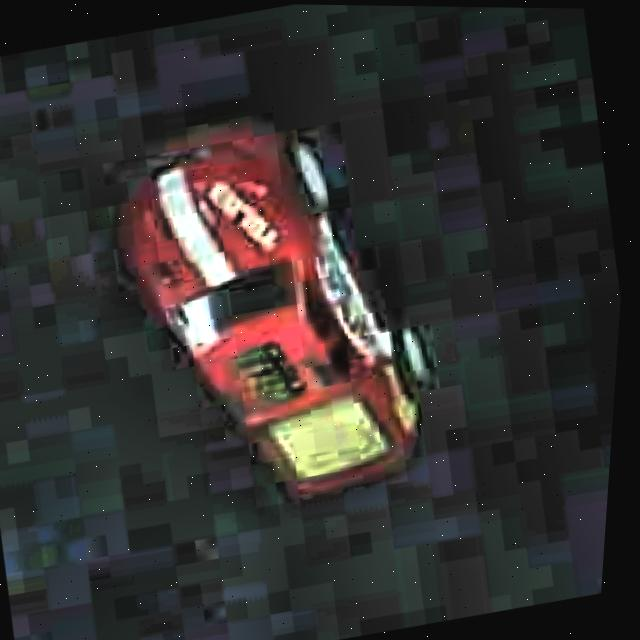car: (70, 75, 485, 541)
